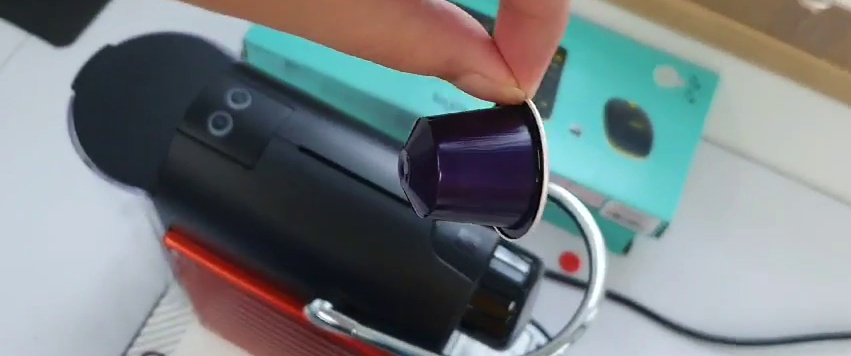capsule_2: (396, 91, 547, 246)
